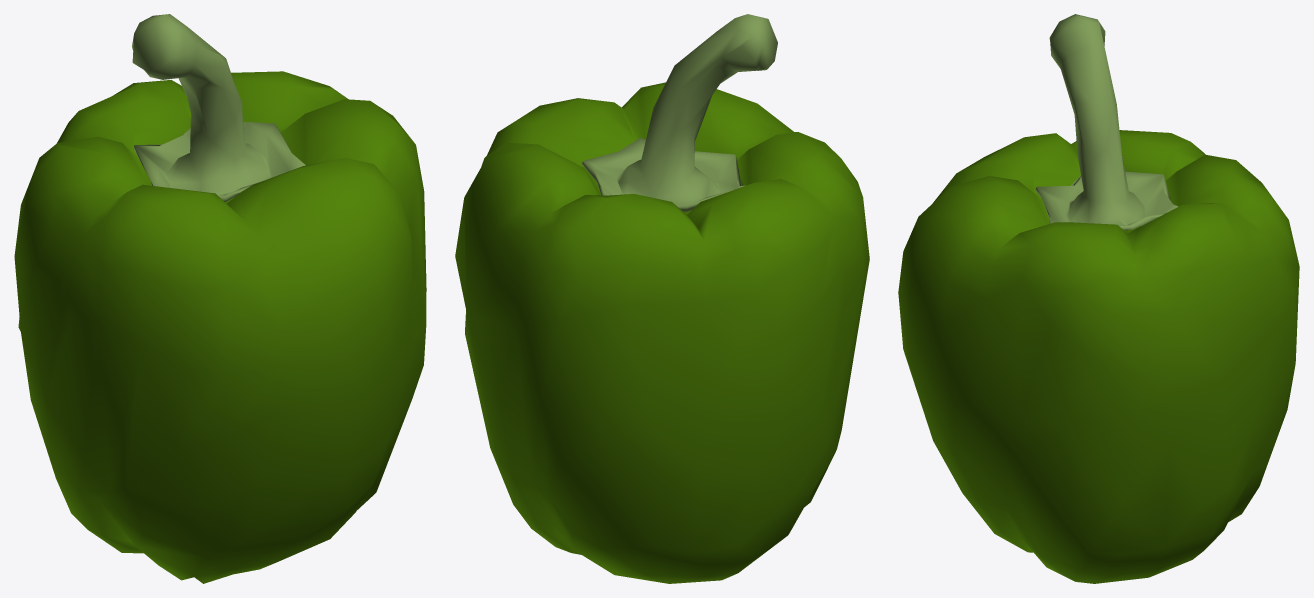
Rendered from Green.fbx.
The picture shows the model from 3 angles, left to right: view 1: azimuth 30°, elevation 25°; view 2: azimuth 150°, elevation 25°; view 3: azimuth 270°, elevation 25°; orthographic projection. The views are drawn at different scales.
Parts seen in each view (by area): view 1: Green; view 2: Green; view 3: Green.
Boxes of the visible parts, bbox=[...] form: Green: bbox=[14, 14, 426, 583]; Green: bbox=[455, 14, 869, 583]; Green: bbox=[898, 14, 1299, 583].
Size of the model in its own units: 0.0645 by 0.0935 by 0.0679.
